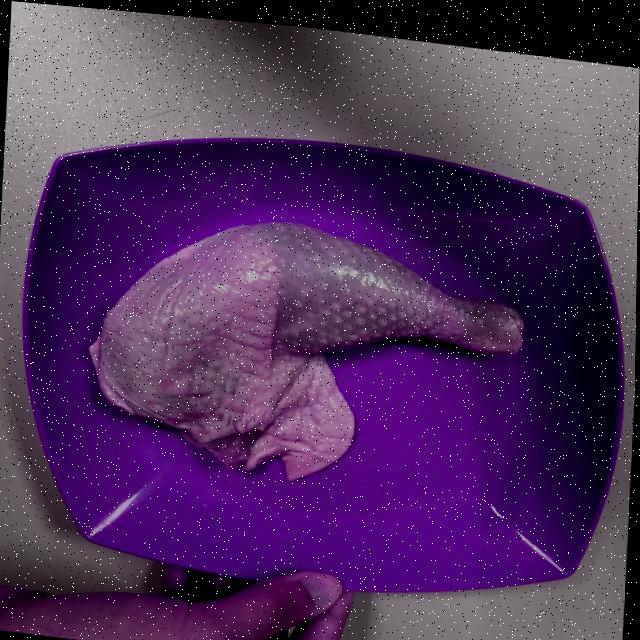quater: (80, 228, 516, 492)
